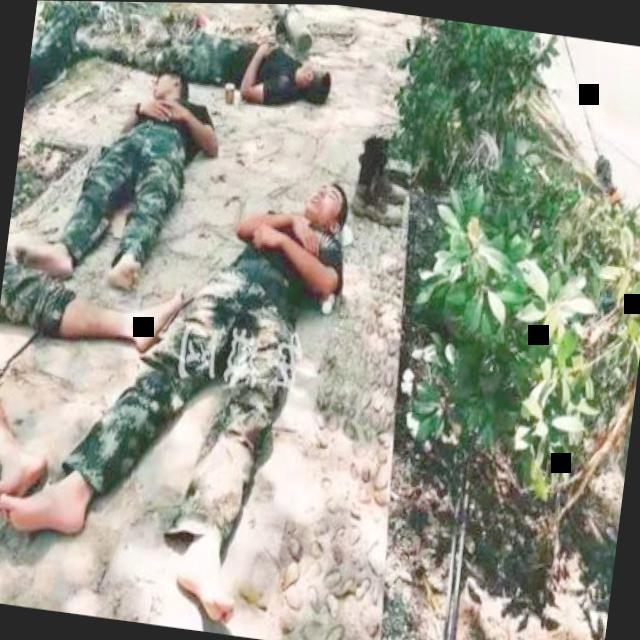Fall-Detected: (19, 0, 123, 160)
